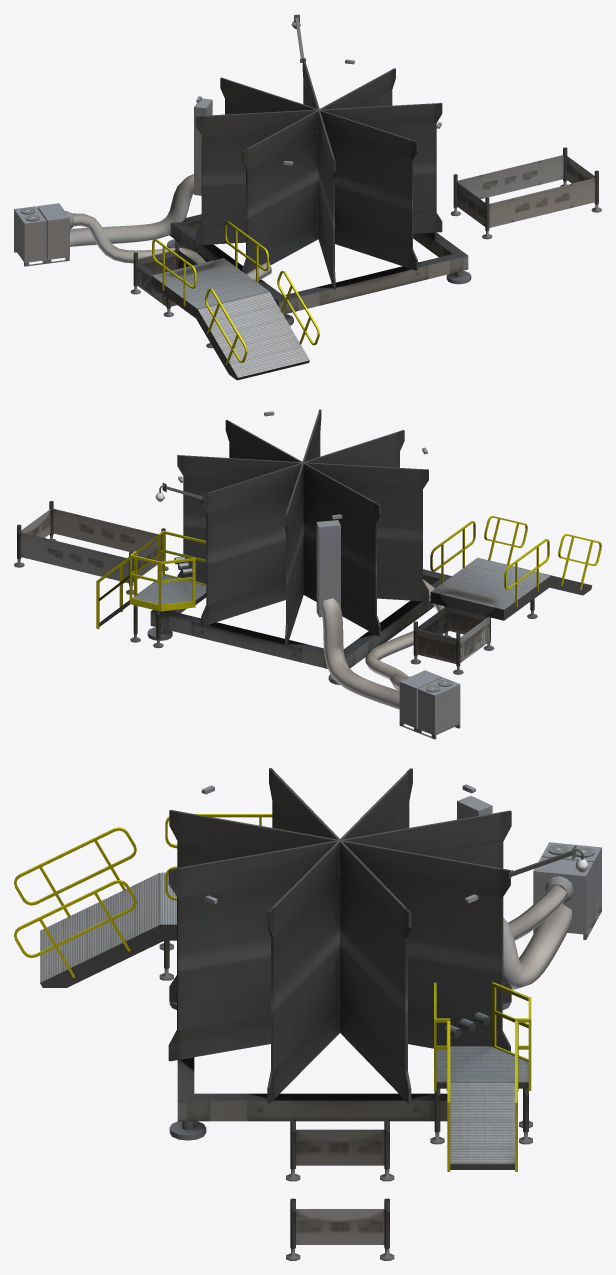
File: hdu-processor.glb
The picture shows the model from 3 angles, top to bottom: view 1: azimuth 30°, elevation 25°; view 2: azimuth 150°, elevation 25°; view 3: azimuth 270°, elevation 25°; orthographic projection. The views are drawn at different scales.
Visible parts, largest first — view 1: HDU_lowRez_part2; view 2: HDU_lowRez_part2; view 3: HDU_lowRez_part2.
Part boxes in pixels (x1,y1,x2,y2): HDU_lowRez_part2: (14, 14, 601, 380); HDU_lowRez_part2: (14, 409, 601, 739); HDU_lowRez_part2: (14, 768, 601, 1260).
Size of the model in its own units: 656 by 226 by 459.
Materials: 1 (1 with a texture image).
